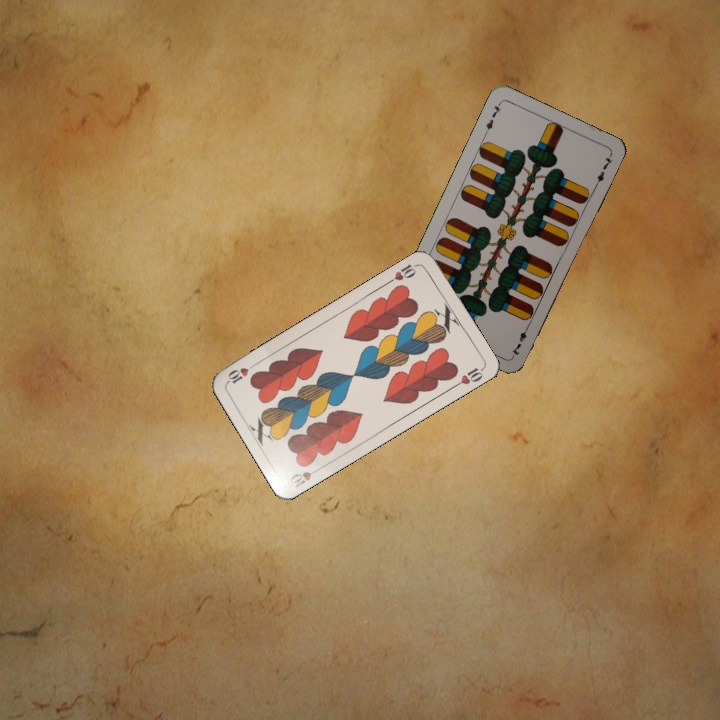E7: (480, 99, 504, 137), (508, 320, 532, 358)
H10: (286, 463, 324, 490), (385, 259, 421, 286)
